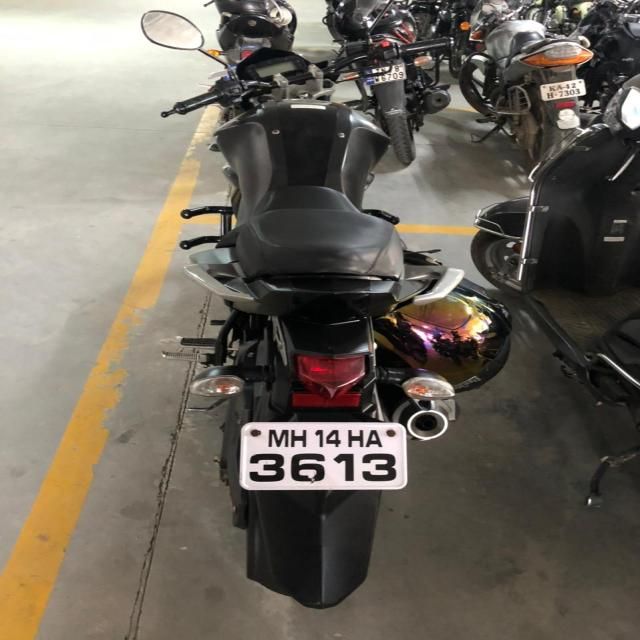license_plate: (237, 421, 408, 491), (538, 78, 586, 101)
